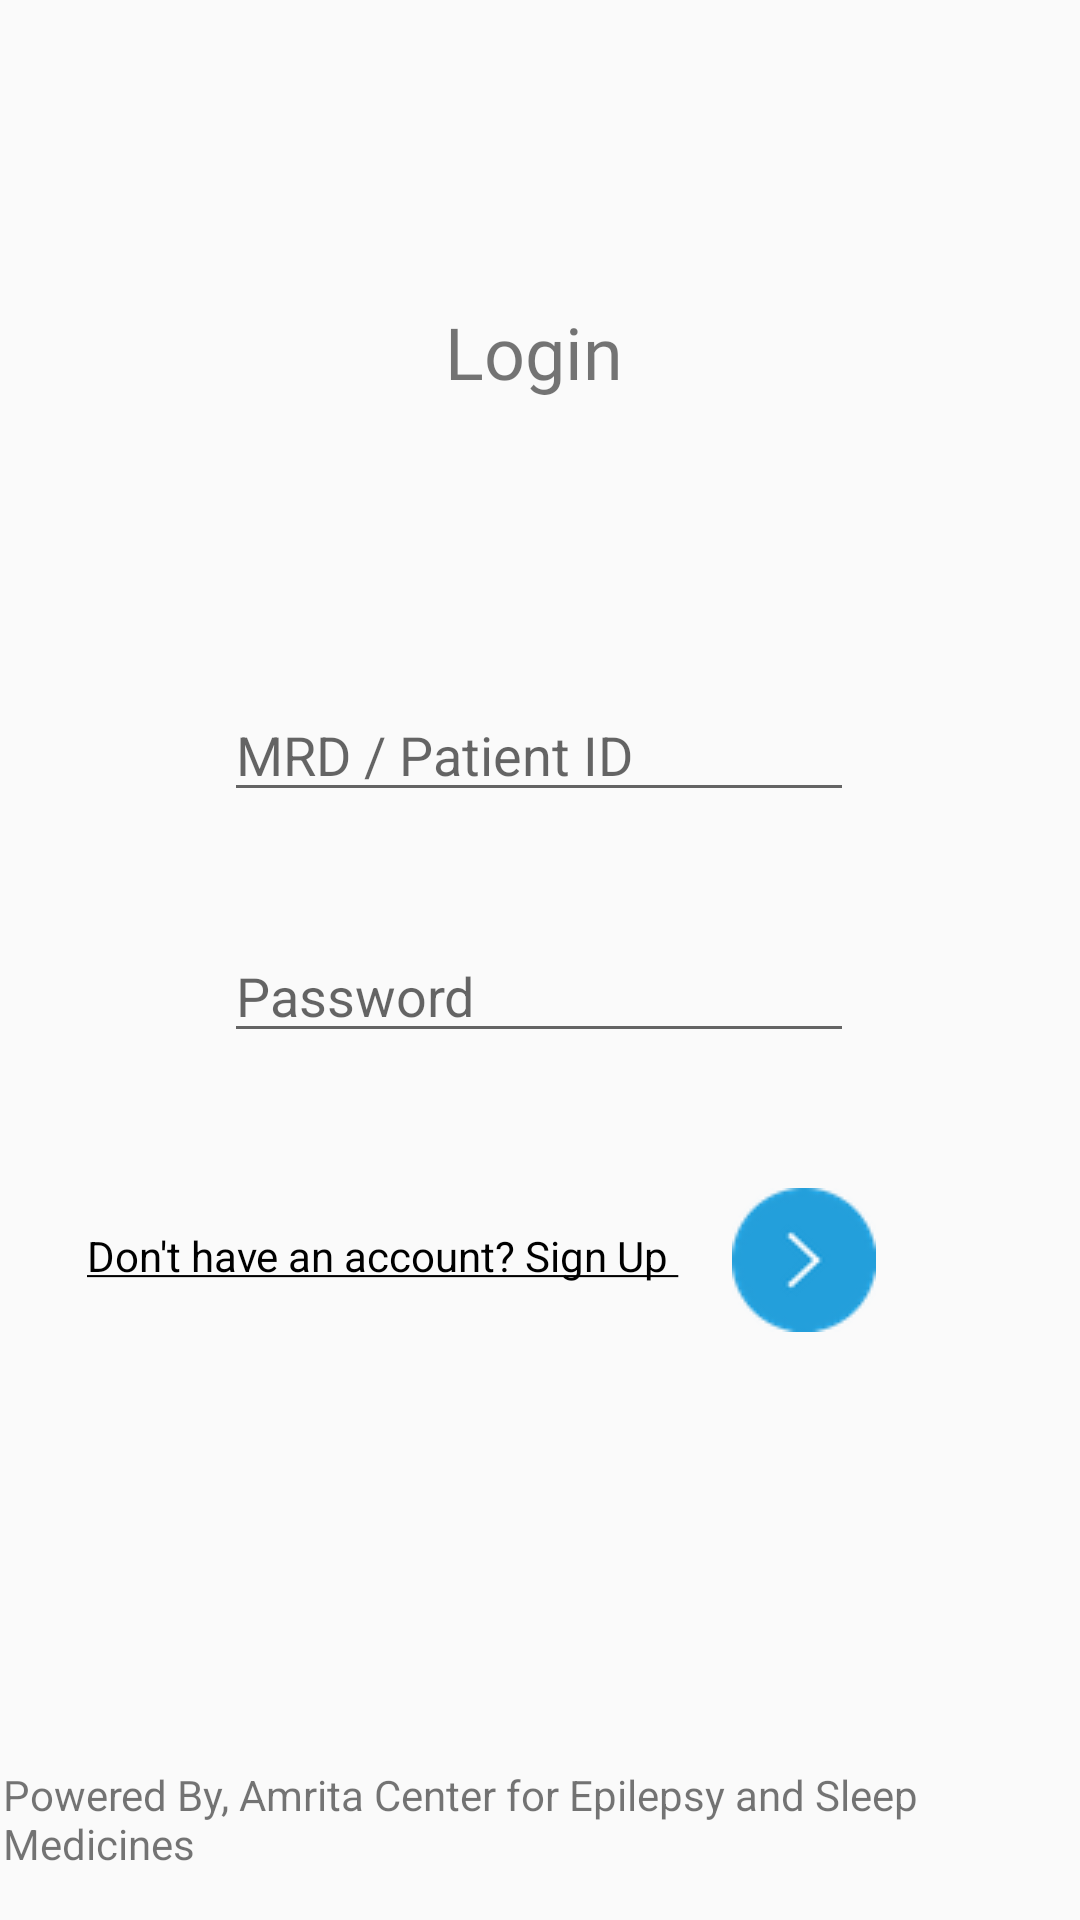

Icons on this 1080px x 1920px Android screen, each with the point to tap as [x,y]:
arrow right: [804,1260]
